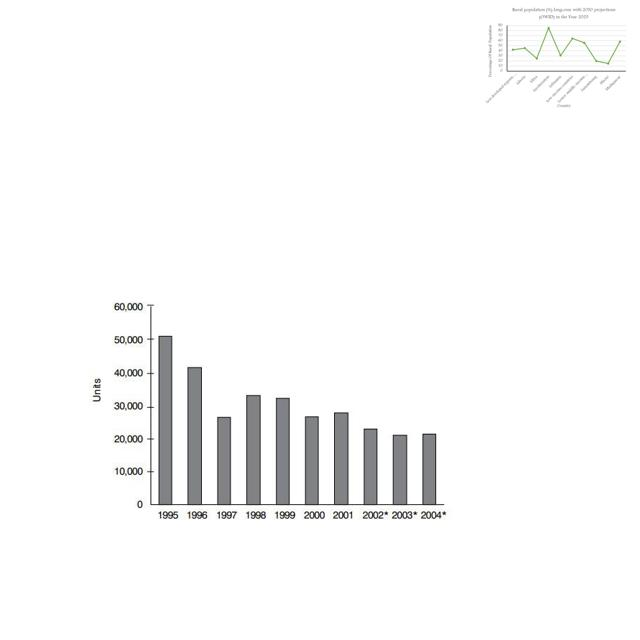Graph: (89, 290, 457, 530), (485, 5, 628, 109)
